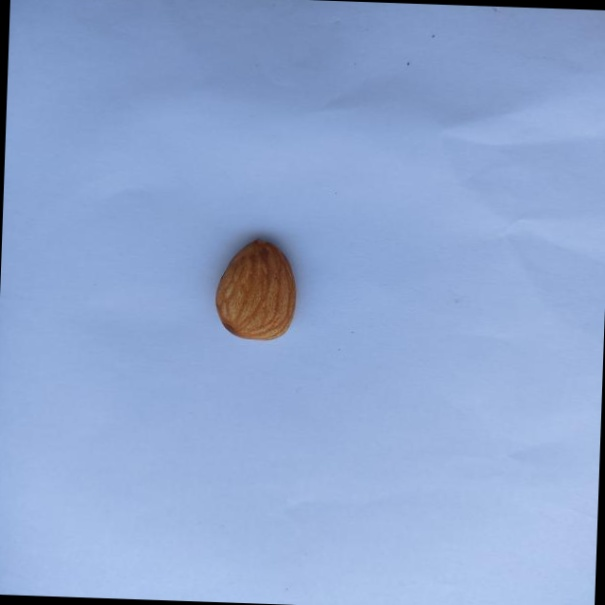grade1: (208, 230, 308, 348)
